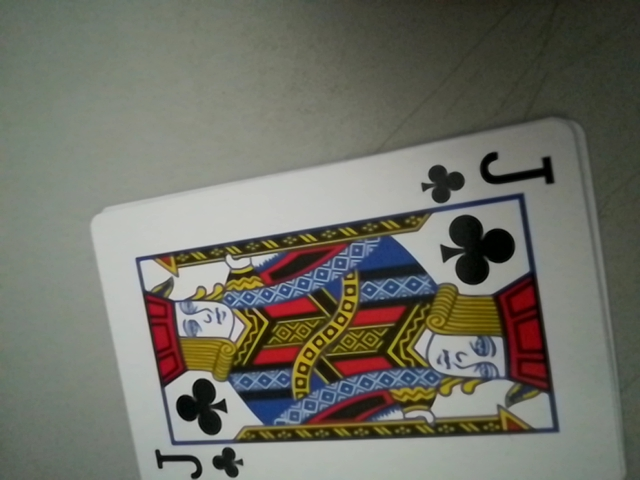mh j: (420, 141, 559, 207), (148, 438, 242, 480)
